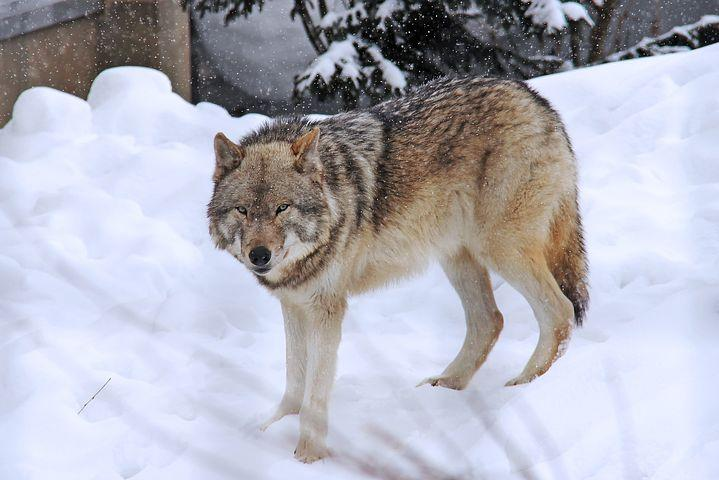fox: (208, 73, 586, 468)
